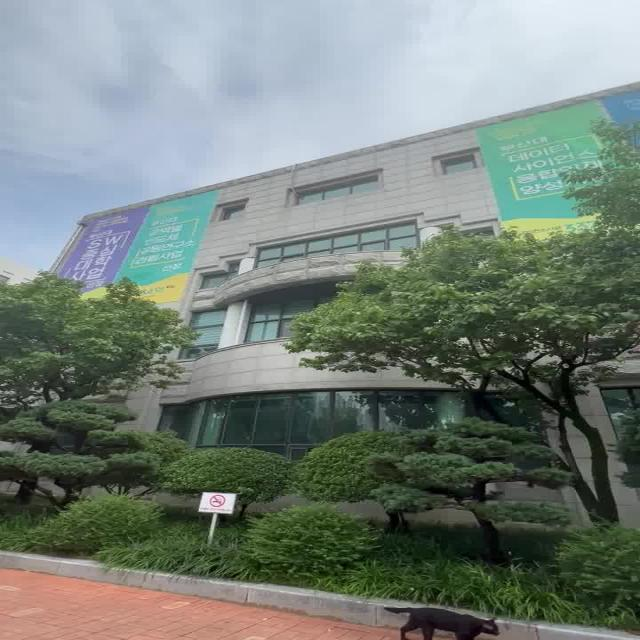building: (170, 165, 388, 382)
